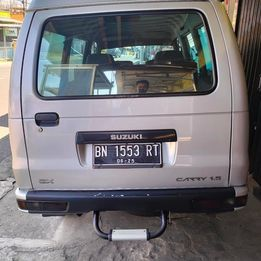plate: (89, 141, 163, 169)
